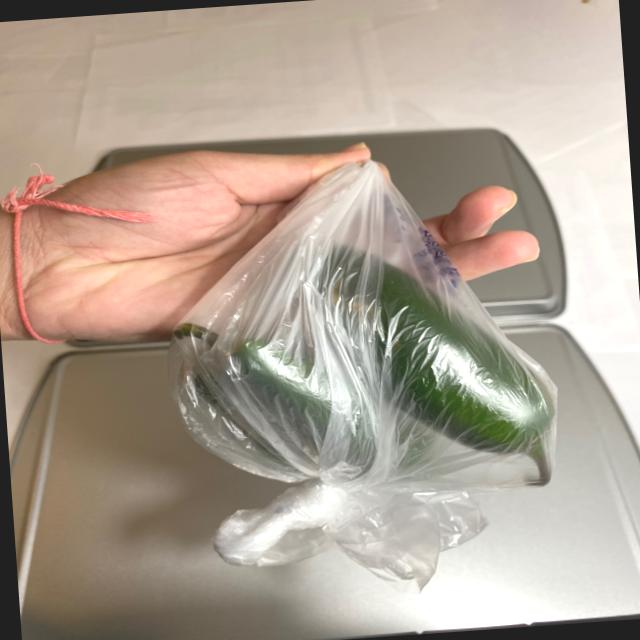chilli: (172, 223, 556, 518)
